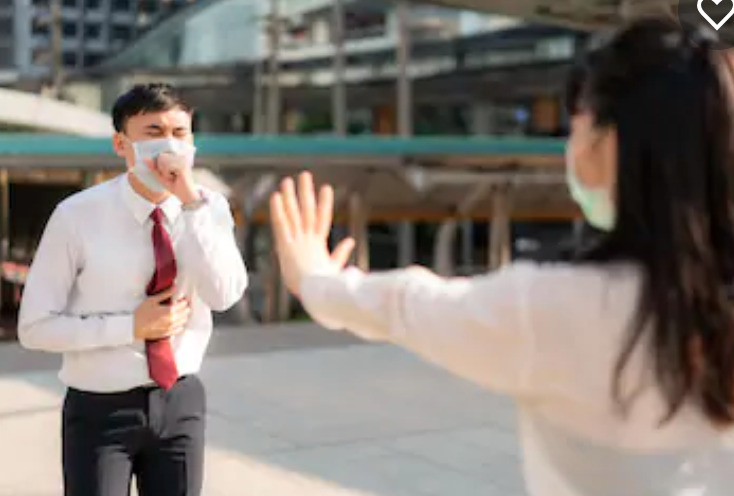Caution: (19, 20, 732, 494)
